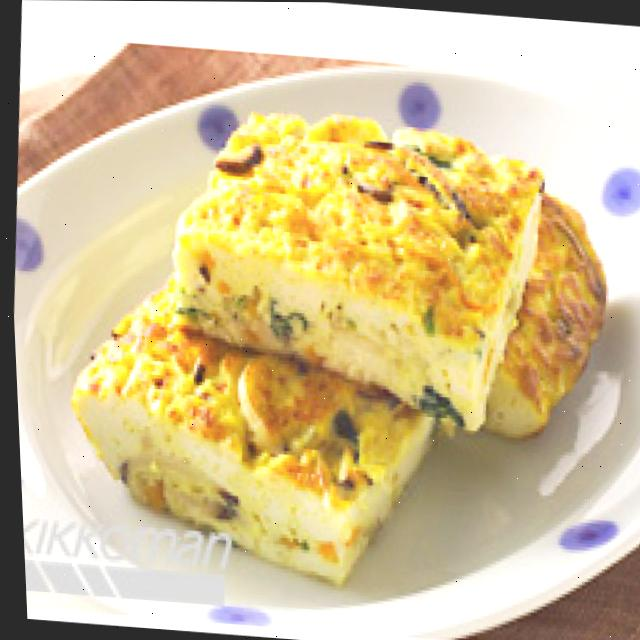鸡蛋料理: (36, 83, 627, 551)
